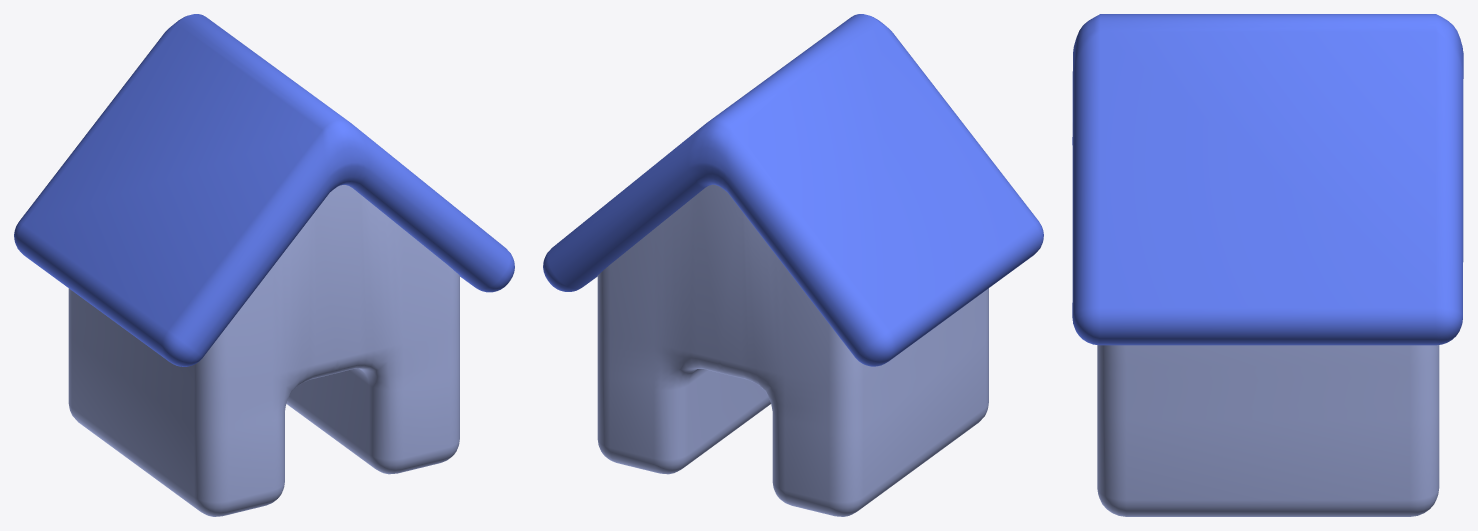
The model's file is home.glb.
3 renders of one model, left to right at view 1: azimuth 30°, elevation 25°; view 2: azimuth 150°, elevation 25°; view 3: azimuth 270°, elevation 25°, orthographic. The views are drawn at different scales.
Parts seen in each view (by area): view 1: Cube.001, Cube; view 2: Cube.001, Cube; view 3: Cube.001, Cube.
Boxes of the visible parts, x1,y1,x2,y2 form: Cube.001: (14,14,514,366); Cube: (68,185,459,516); Cube.001: (543,14,1043,366); Cube: (597,184,988,516); Cube.001: (1072,14,1463,345); Cube: (1097,345,1439,516).
Bounding box in the file's own units: 4.43 × 4.56 × 3.7.
